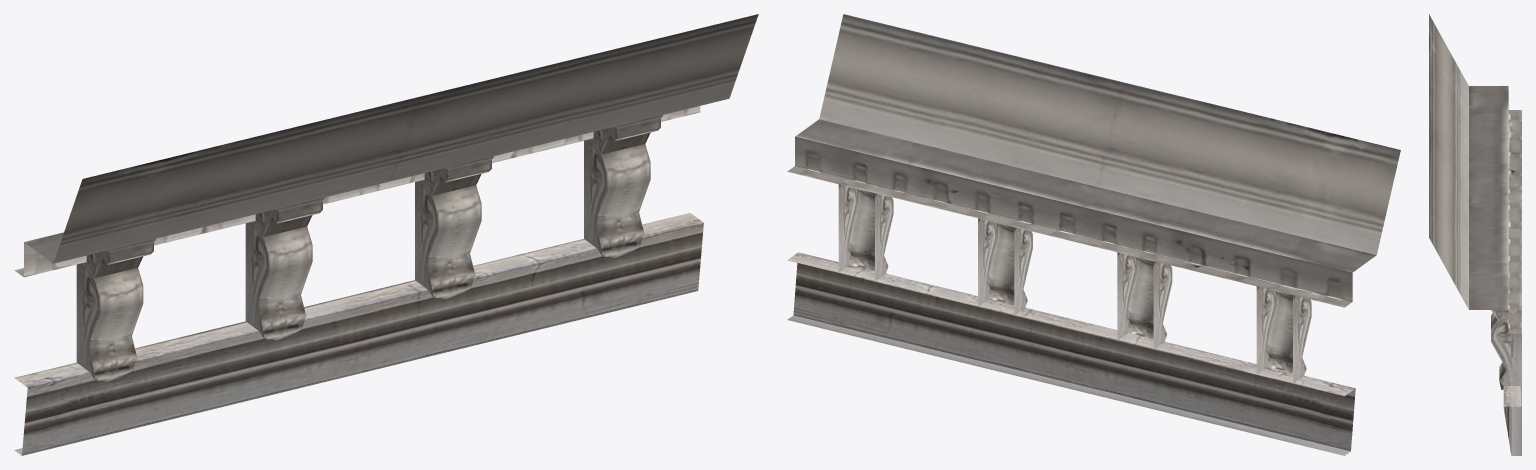
The model's file is WallRoofline1A.fbx.
3 views of the same model, side by side, from view 1: azimuth 30°, elevation 25°; view 2: azimuth 150°, elevation 25°; view 3: azimuth 270°, elevation 25° (orthographic). The views are drawn at different scales.
Parts seen in each view (by area): view 1: WallRoofline1A; view 2: WallRoofline1A; view 3: WallRoofline1A.
Part boxes in pixels (x1,y1,x2,y2): WallRoofline1A: (14,14,758,455); WallRoofline1A: (787,14,1400,455); WallRoofline1A: (1429,14,1521,455).
Bounding box in the file's own units: 200 × 90.8 × 35.
